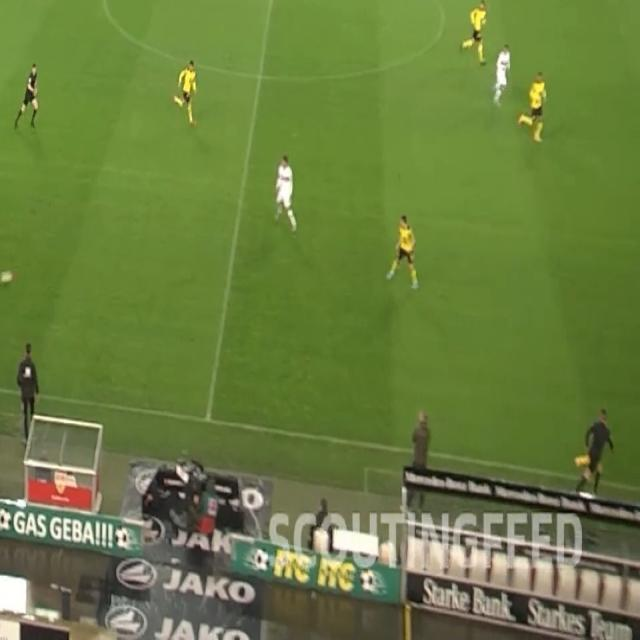ball: (0, 266, 14, 286)
